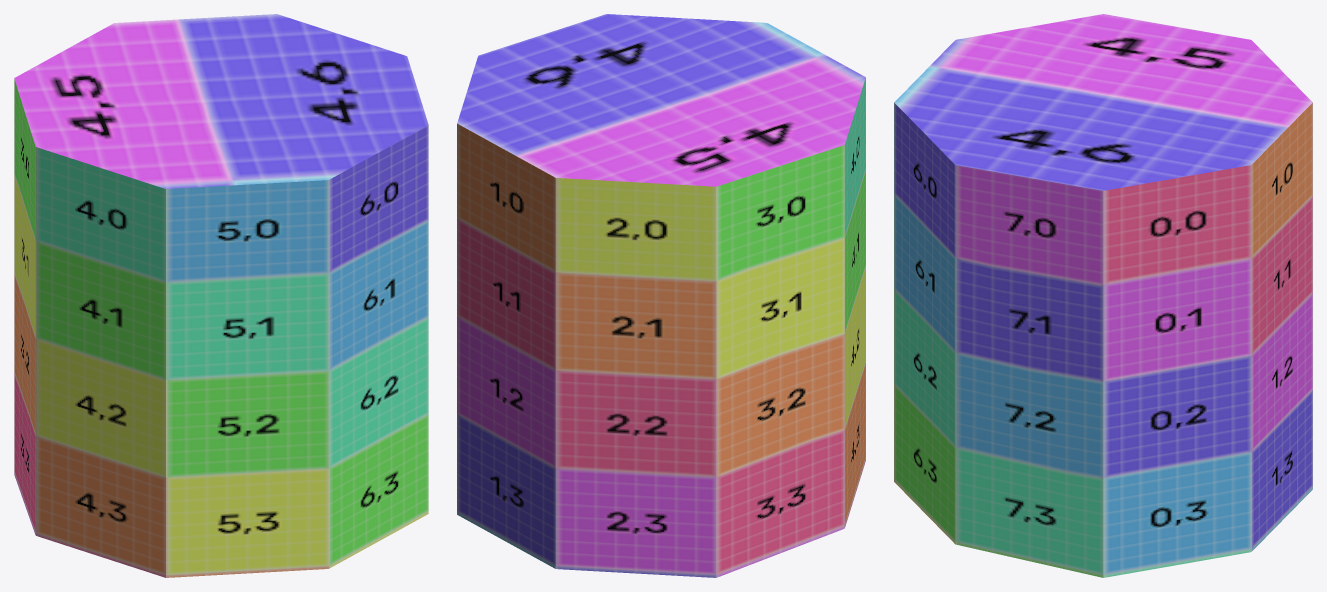
3 views of the same model, side by side, from view 1: azimuth 30°, elevation 25°; view 2: azimuth 150°, elevation 25°; view 3: azimuth 270°, elevation 25° (orthographic). The views are drawn at different scales.
Visible parts, largest first — view 1: 円柱; view 2: 円柱; view 3: 円柱.
Boxes of the visible parts, left/top/right/bottom form: 円柱: left=14, top=14, right=428, bottom=577; 円柱: left=457, top=14, right=865, bottom=577; 円柱: left=894, top=14, right=1312, bottom=577.
Bounding box in the file's own units: 2 × 2.04 × 2.
Materials: 1 (1 with a texture image).
